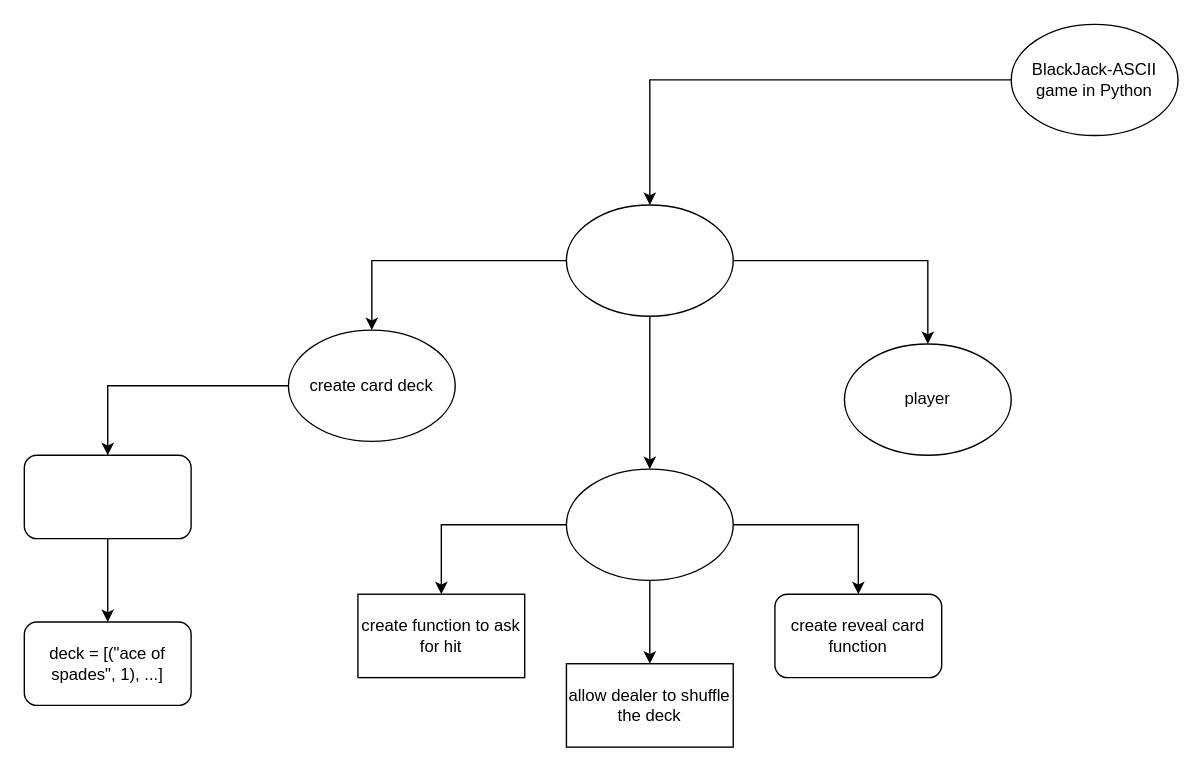
This 1202x771 diagram has some shape labels left out. Here are the shapes that lost their labels. From the top down, the box of each, then its label:
(565, 204, 733, 316): Make logic for the game
(23, 454, 191, 539): make array to store cards
(565, 468, 733, 580): dealer
